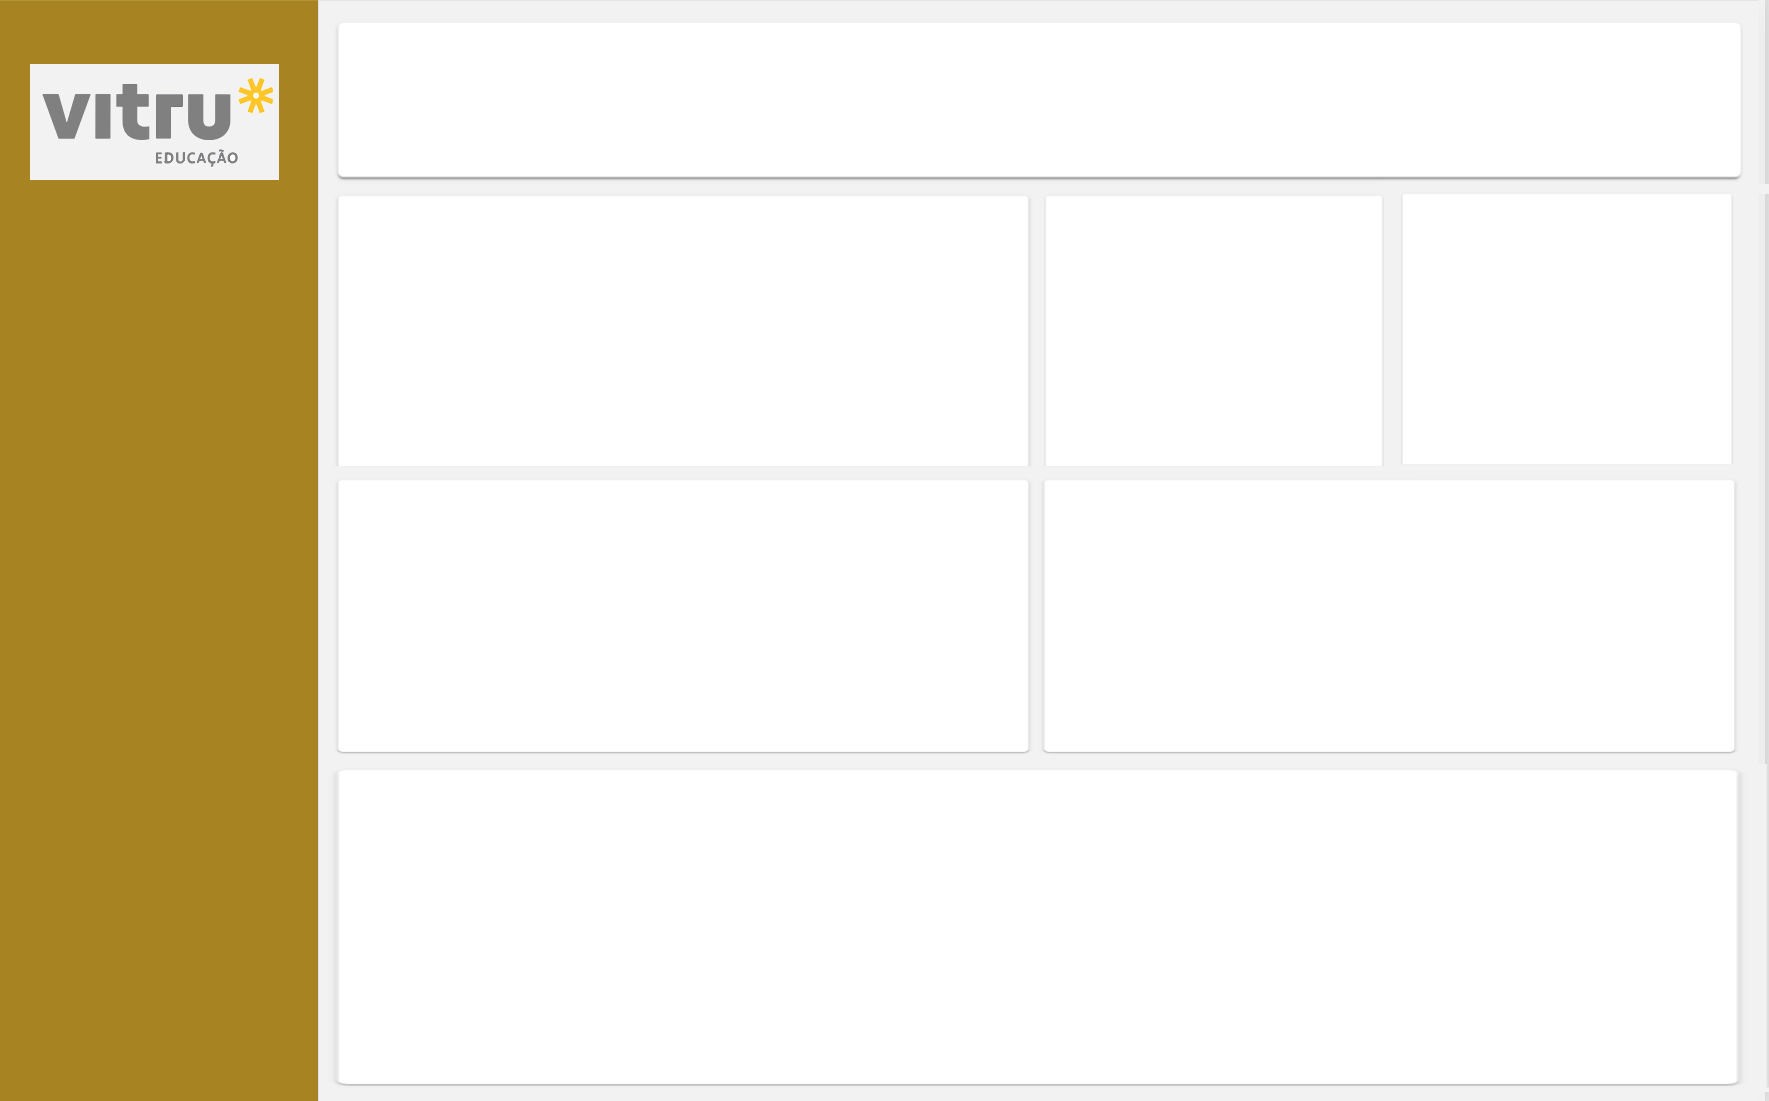

This screenshot's page, from the dashboard's own definition file:
{"tool":"powerbi","page":{"name":"Visão Geral","canvas":[1280,720],"ordinal":0},"visuals":[{"type":"barChart","title":"Qtd. Melhorias por Empresa","fields":{"Y":["CountNonNull(Backlog.ID da OM)"],"Category":["Backlog.Empresa"]},"box":[250.8,134.3,488.5,165.2],"z":0},{"type":"card","fields":{"Values":["Count(Backlog.ID da OM)"]},"box":[982.9,18.9,112.7,91.5],"z":1000},{"type":"card","fields":{"Values":["Count(Backlog.ID da OM)"]},"box":[1116.7,18.9,123.9,91.5],"z":2000},{"type":"barChart","title":"Top demandantes de melhorias","fields":{"Y":["CountNonNull(Backlog.ID da OM)"],"Category":["Backlog.Área"]},"box":[763,134.3,230.6,165.2],"z":3000},{"type":"barChart","title":"Qtd. Melhorias por Status","fields":{"Y":["CountNonNull(Backlog.ID da OM)"],"Category":["Backlog.Status"]},"box":[763,319.7,488.5,179.5],"z":4000},{"type":"barChart","title":"Qtd. Melhorias por Tipo de Ganho","fields":{"Y":["CountNonNull(Backlog.ID da OM)"],"Category":["Backlog.Tipo de ganho"]},"box":[250.8,319.7,488.5,161.6],"z":5000},{"type":"columnChart","title":"Top melhorias solicitadas","fields":{"Category":["Backlog.Tipo de Melhoria"],"Y":["CountNonNull(Backlog.ID da OM)"]},"box":[250.9,510.8,1000.1,195.8],"z":6000},{"type":"slicer","fields":{"Values":["Backlog.Tipo de Fluxo/ indicador"]},"box":[660.8,27.3,146.2,83.2],"z":7000},{"type":"slicer","fields":{"Values":["Backlog.Empresa"]},"box":[17.9,250.7,185.4,71.3],"z":8000},{"type":"slicer","fields":{"Values":["Backlog.Área"]},"box":[17.9,329.1,185.4,71.3],"z":9000},{"type":"slicer","fields":{"Values":["Backlog.Status"]},"box":[17.9,409.9,185.4,71.3],"z":10000},{"type":"slicer","fields":{"Values":["Backlog.Tipo de ganho"]},"box":[17.9,490.7,185.4,71.3],"z":11000},{"type":"pieChart","title":"Qtd por Status","fields":{"Category":["Backlog.Status"],"Y":["Count(Backlog.ID da OM)"]},"box":[1018.5,130.7,231.8,165.2],"z":12000},{"type":"card","fields":{"Values":["Count(Backlog.ID da OM)"]},"box":[806.9,18.9,164.8,91.5],"z":13000},{"type":"shape","box":[19.7,119.7,184.5,26.8],"z":14000},{"type":"shape","box":[19.7,187.3,184.5,26.8],"z":15000},{"type":"textbox","box":[19.7,135.2,184.5,100],"z":16000},{"type":"textbox","box":[274.5,19.1,257.6,91.1],"z":17000},{"type":"slicer","fields":{"Values":["Backlog.Data da solicitação"]},"box":[20.2,572.6,185.6,70.9],"z":18000}]}

Visuals, with their boxes on the page's 1280x720 design canvas (x1, y1, x2, y2). These are canvas units, not pixel positions in the 1769x1101 screenshot, which may show the page scaled, cropped or inside an application window:
"Qtd. Melhorias por Empresa" barChart: 251,134,739,300
card - Count(Backlog.ID da OM): 983,19,1096,110
card - Count(Backlog.ID da OM): 1117,19,1241,110
"Top demandantes de melhorias" barChart: 763,134,994,300
"Qtd. Melhorias por Status" barChart: 763,320,1252,499
"Qtd. Melhorias por Tipo de Ganho" barChart: 251,320,739,481
"Top melhorias solicitadas" columnChart: 251,511,1251,707
slicer - Backlog.Tipo de Fluxo/ indicador: 661,27,807,110
slicer - Backlog.Empresa: 18,251,203,322
slicer - Backlog.Área: 18,329,203,400
slicer - Backlog.Status: 18,410,203,481
slicer - Backlog.Tipo de ganho: 18,491,203,562
"Qtd por Status" pieChart: 1018,131,1250,296
card - Count(Backlog.ID da OM): 807,19,972,110
shape: 20,120,204,146
shape: 20,187,204,214
textbox: 20,135,204,235
textbox: 274,19,532,110
slicer - Backlog.Data da solicitação: 20,573,206,644
